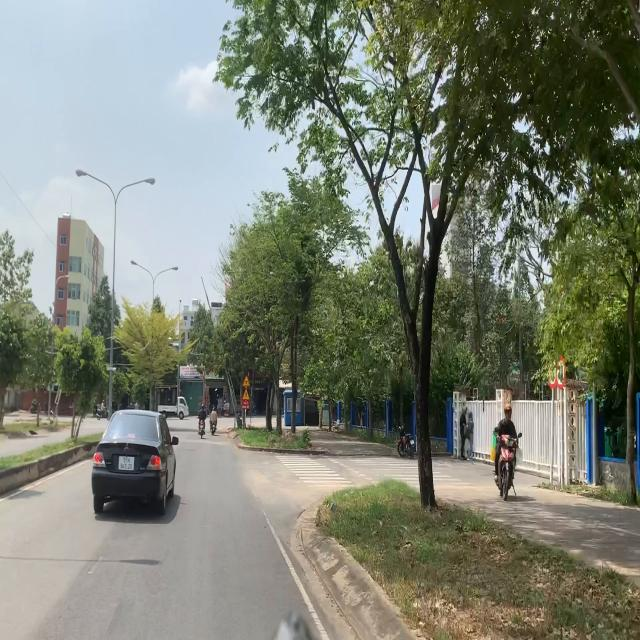Duong giao nhau: (242, 374, 251, 387)
Nguoi di bo cat ngang: (242, 388, 250, 400)
